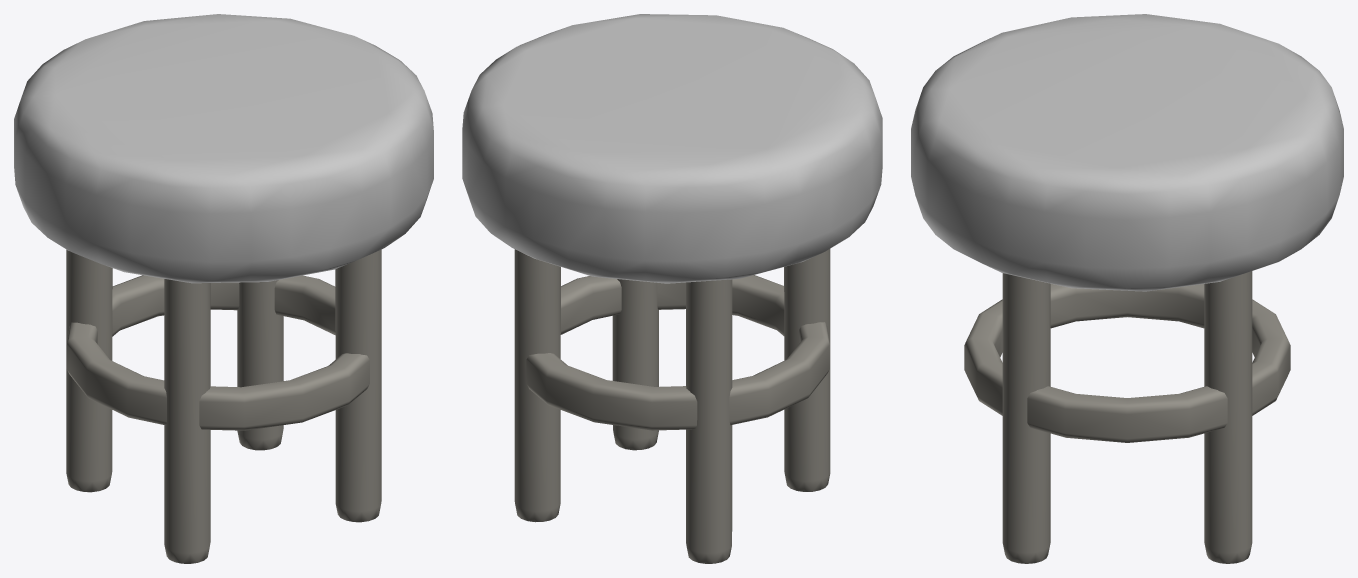
The model's file is stool_08_white.fbx.
3 views of the same model, side by side, from view 1: azimuth 30°, elevation 25°; view 2: azimuth 150°, elevation 25°; view 3: azimuth 270°, elevation 25° (orthographic). The views are drawn at different scales.
Parts seen in each view (by area): view 1: stool_08_white; view 2: stool_08_white; view 3: stool_08_white.
Boxes of the visible parts, box(x1,y1,x2,y2) form: stool_08_white: box(14, 14, 433, 563); stool_08_white: box(462, 14, 882, 563); stool_08_white: box(911, 14, 1343, 563).
Size of the model in its own units: 39.67 by 42.64 by 39.67.
2 materials, 2 textured.
